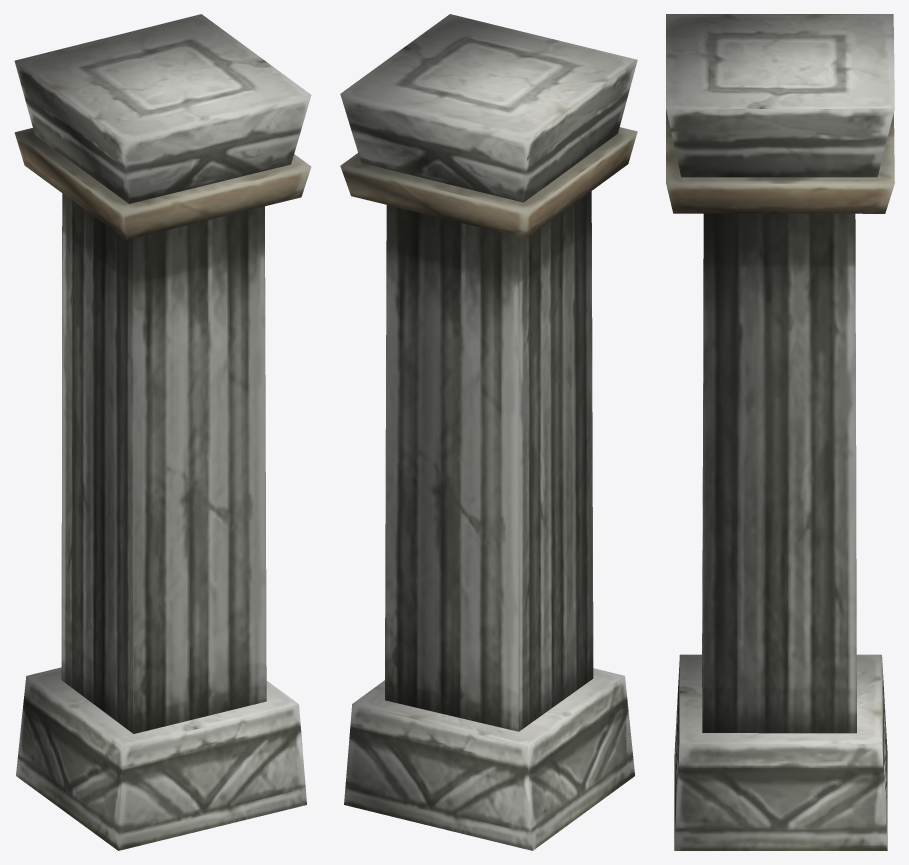
The model's file is unity_dungeon_pillar01.FBX.
3 views of the same model, side by side, from view 1: azimuth 30°, elevation 25°; view 2: azimuth 150°, elevation 25°; view 3: azimuth 270°, elevation 25° (orthographic). The views are drawn at different scales.
Visible parts, largest first — view 1: unity_dungeon_pillar01; view 2: unity_dungeon_pillar01; view 3: unity_dungeon_pillar01.
Boxes of the visible parts, <box> form: unity_dungeon_pillar01: <box>14,14,311,850</box>; unity_dungeon_pillar01: <box>340,14,637,850</box>; unity_dungeon_pillar01: <box>666,14,894,850</box>.
Size of the model in its own units: 1.77 by 6.39 by 1.78.
